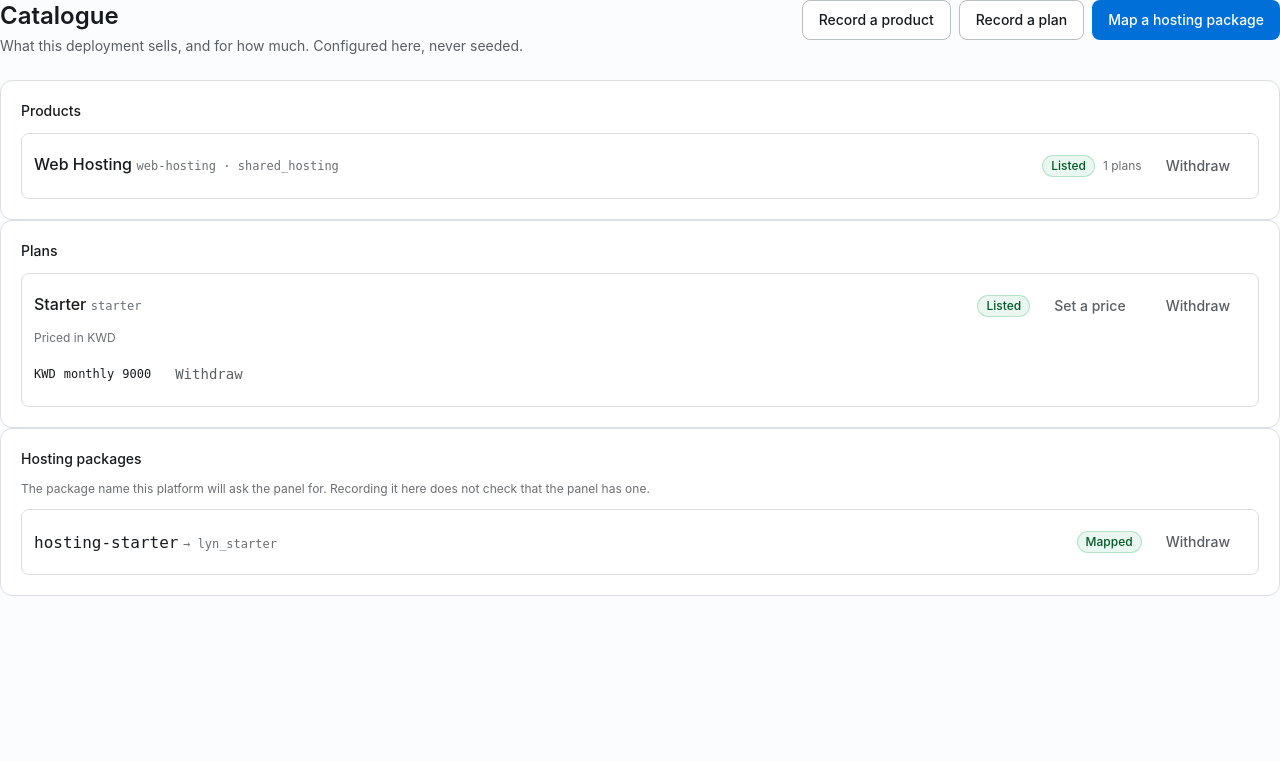
the catalogue screen › asks for the fields the chosen kind actually needs
Step 1. Click the button "Record a plan" → (1021,20), box [959, 0, 1084, 40]
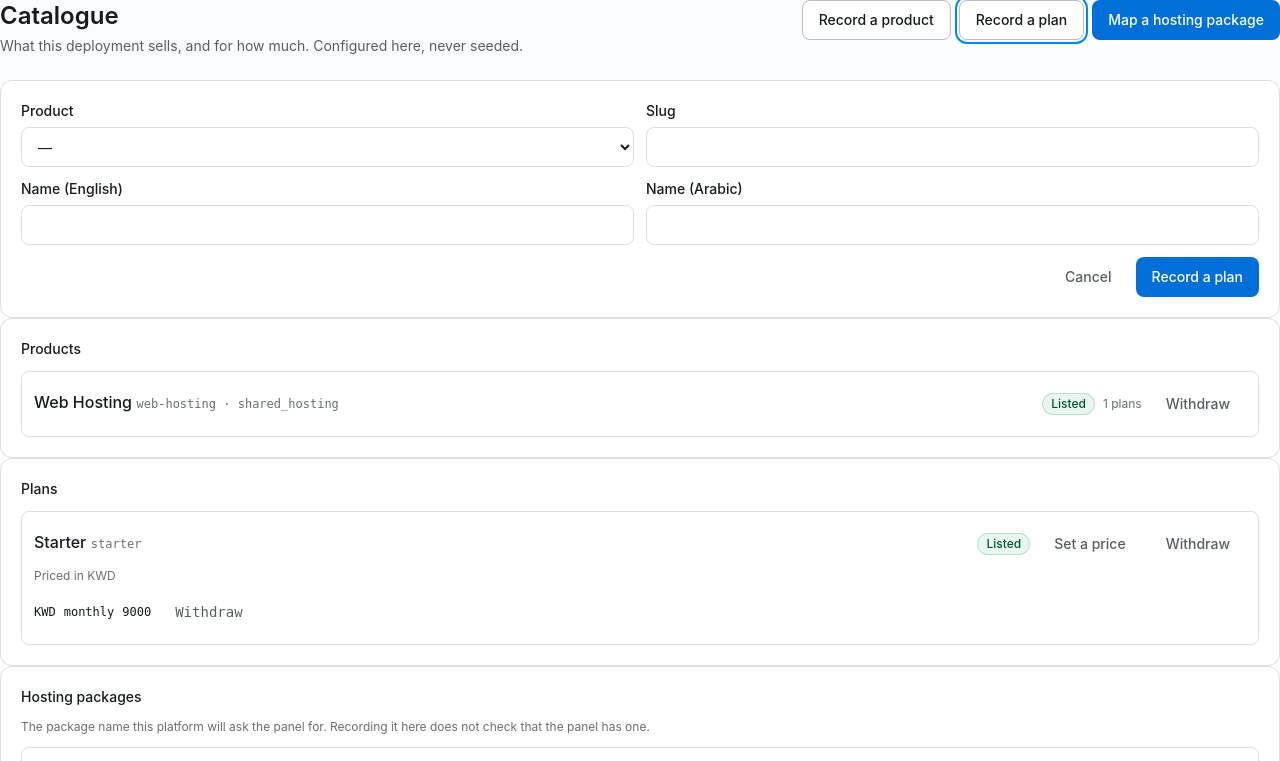
Step 2. Select "web-hosting" in the dropdown labelled "Product" → (328,147), box [21, 127, 634, 167]
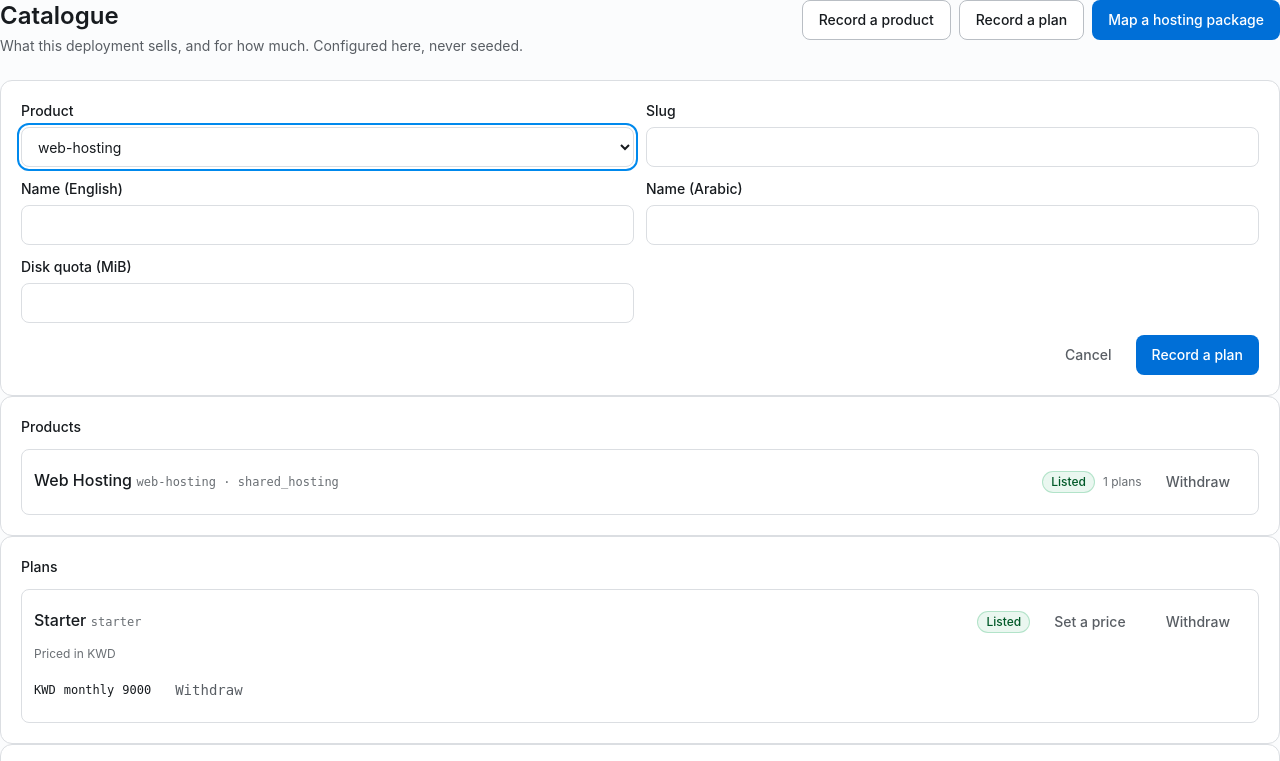
Result: the number field labelled "Disk quota (MiB)" is shown at [21, 283, 634, 323]
